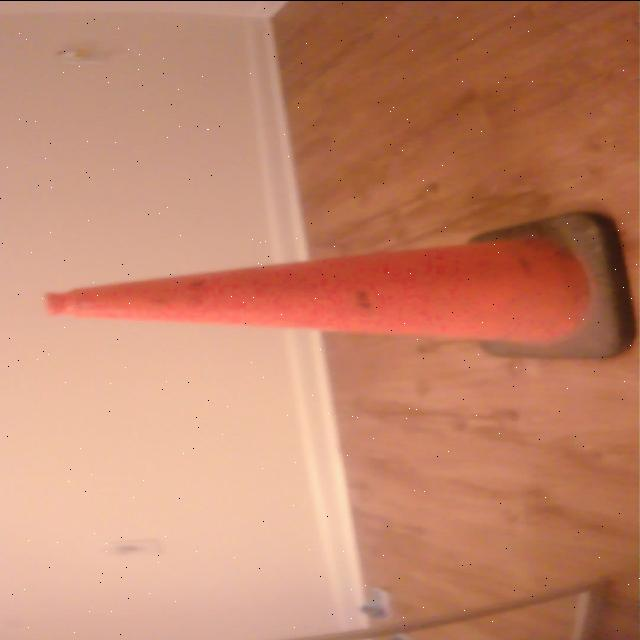traffic cone: (33, 208, 640, 368)
